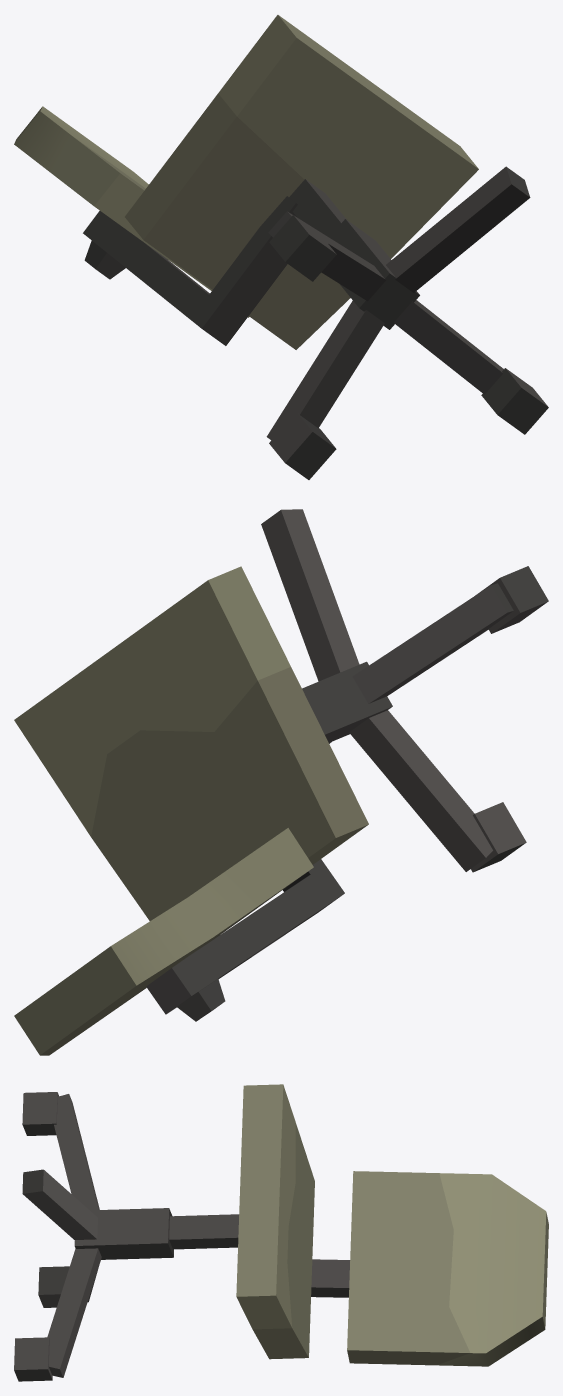
File: AI_Prop_ComputerChair_Broken.fbx
3 renders of one model, top to bottom at view 1: azimuth 30°, elevation 25°; view 2: azimuth 150°, elevation 25°; view 3: azimuth 270°, elevation 25°, orthographic. The views are drawn at different scales.
Visible parts, largest first — view 1: AI_Prop_ComputerChair_Broken; view 2: AI_Prop_ComputerChair_Broken; view 3: AI_Prop_ComputerChair_Broken.
Boxes of the visible parts, left/top/right/bottom form: AI_Prop_ComputerChair_Broken: left=14, top=15, right=548, bottom=479; AI_Prop_ComputerChair_Broken: left=14, top=509, right=548, bottom=1055; AI_Prop_ComputerChair_Broken: left=14, top=1084, right=548, bottom=1381.
Size of the model in its own units: 1.27 by 1.26 by 2.21.
